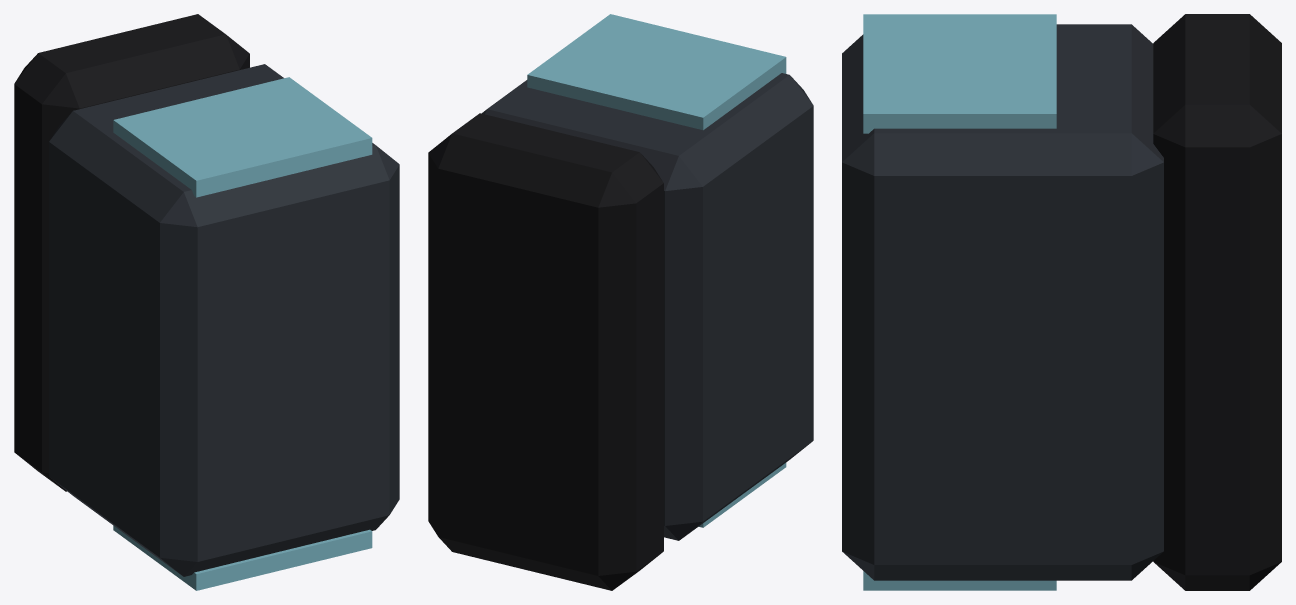
Rendered from sight_dot.glb.
3 renders of one model, left to right at view 1: azimuth 30°, elevation 25°; view 2: azimuth 150°, elevation 25°; view 3: azimuth 270°, elevation 25°, orthographic. The views are drawn at different scales.
Visible parts, largest first — view 1: sight_dot; view 2: sight_dot; view 3: sight_dot.
Part boxes in pixels (x1,y1,x2,y2): sight_dot: (14,14,399,590); sight_dot: (428,14,813,590); sight_dot: (842,14,1281,590).
Size of the model in its own units: 0.03 by 0.05 by 0.041.
